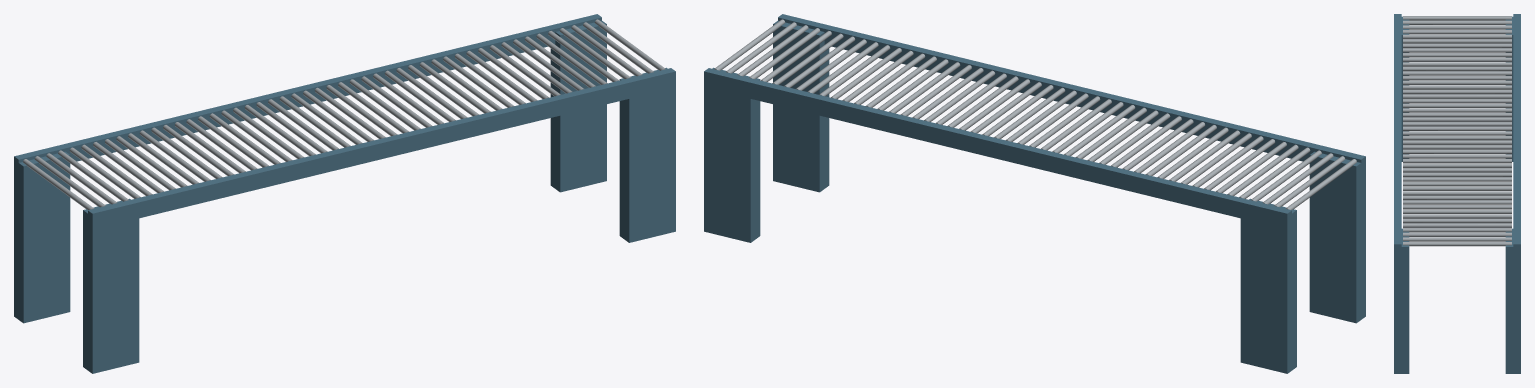
3 renders of one model, left to right at view 1: azimuth 30°, elevation 25°; view 2: azimuth 150°, elevation 25°; view 3: azimuth 270°, elevation 25°, orthographic. The views are drawn at different scales.
Visible parts, largest first — view 1: rail1, leg1, leg3, leg0, rail0, leg2; view 2: rail0, leg2, leg0, leg1, rail1, leg3; view 3: leg3, leg2, rail0, rail1, roller11, roller16, roller34, roller39, roller44, roller6, roller1, roller10 (+44 smaller).
Boxes of the visible parts, box(x1,y1,x2,y2) form: rail1: box(88, 68, 675, 229); leg1: box(83, 198, 139, 373); leg3: box(619, 67, 675, 242); leg0: box(14, 151, 70, 323); rail0: box(14, 14, 601, 175); leg2: box(550, 20, 606, 192); rail0: box(704, 68, 1291, 229); leg2: box(704, 67, 760, 242); leg0: box(1240, 198, 1296, 373); leg1: box(1309, 151, 1365, 323); rail1: box(778, 14, 1365, 175); leg3: box(773, 20, 829, 192); leg3: box(1394, 228, 1409, 373); leg2: box(1505, 228, 1520, 373); rail0: box(1513, 14, 1520, 257); rail1: box(1394, 14, 1401, 257); roller11: box(1403, 66, 1511, 71); roller16: box(1403, 89, 1511, 94); roller34: box(1403, 172, 1511, 177); roller39: box(1403, 195, 1511, 200); roller44: box(1403, 218, 1511, 223); roller6: box(1403, 43, 1511, 48); roller1: box(1403, 20, 1511, 24); roller10: box(1403, 62, 1511, 66).
Size of the model in its own units: 3.05 by 0.8 by 0.71.
